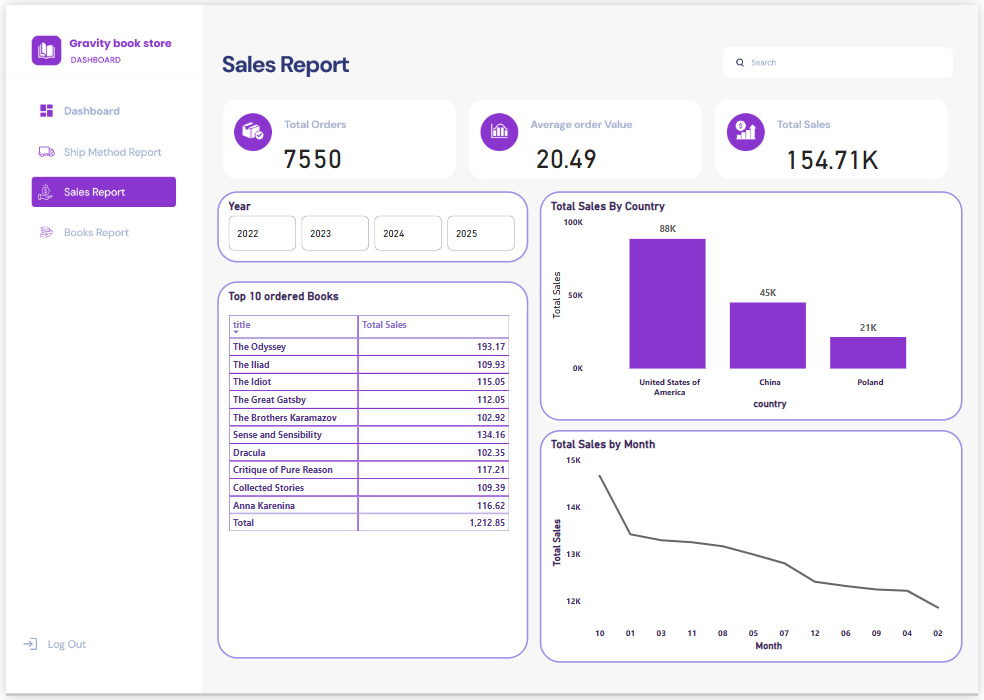

This screenshot's page, from the dashboard's own definition file:
{"tool":"powerbi","page":{"name":"Sales Report","canvas":[1440,1024],"ordinal":2},"visuals":[{"type":"lineChart","fields":{"Y":["Factsales.Total Sales"],"Category":["DimDate.Month"]},"box":[790,630,626.7,345],"z":0},{"type":"clusteredColumnChart","title":"Total Sales By Country","fields":{"Y":["Factsales.Total Sales"],"Category":["DimShipping.country"]},"box":[790,276.7,626.7,340],"z":1000},{"type":"tableEx","title":"Top 10 ordered Books","fields":{"Values":["DimBooks.title","Factsales.Total Sales"]},"box":[313.7,409.8,460.8,558.8],"z":2000},{"type":"advancedSlicerVisual","fields":{"Values":["DimDate.Year"]},"box":[313.7,276.5,460.8,105.9],"z":3000},{"type":"card","fields":{"Values":["Factsales.No.Orders"]},"box":[401.7,193.3,103.3,63.3],"z":4000},{"type":"card","fields":{"Values":["Factsales.Average Order Value"]},"box":[775,193.3,108.3,63.3],"z":5000},{"type":"card","fields":{"Values":["Factsales.Total Sales"]},"box":[1144,194,158,62],"z":6000},{"type":"actionButton","box":[34,316,218,46],"z":7000},{"type":"actionButton","box":[31.4,194.1,219.6,47.1],"z":8000},{"type":"actionButton","box":[31.4,135.3,219.6,47.1],"z":9000}]}

Visuals, with their boxes in screenshot pixels (x1, y1, x2, y2):
lineChart - Factsales.Total Sales x DimDate.Month: box(537, 427, 960, 659)
"Total Sales By Country" clusteredColumnChart: box(537, 189, 960, 418)
"Top 10 ordered Books" tableEx: box(216, 279, 527, 655)
advancedSlicerVisual - DimDate.Year: box(216, 189, 527, 260)
card - Factsales.No.Orders: box(276, 133, 345, 175)
card - Factsales.Average Order Value: box(527, 133, 600, 175)
card - Factsales.Total Sales: box(776, 133, 882, 175)
actionButton: box(28, 215, 175, 246)
actionButton: box(26, 133, 174, 165)
actionButton: box(26, 94, 174, 125)
